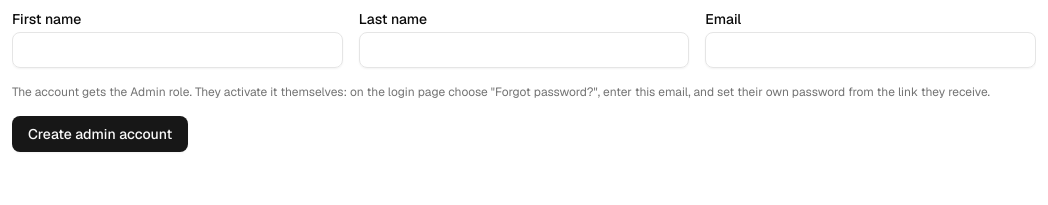
Test: CreateAdminForm › submits and shows the result
The width and height of the screenshot is (1048, 205).
Type "Asha" into the field labelled "First name" at coordinates (177, 50), box [12, 32, 343, 68]
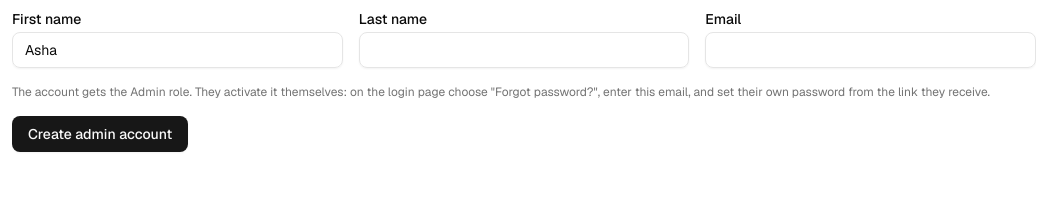
Type "Rao" into the field labelled "Last name" at coordinates (524, 50), box [359, 32, 689, 68]
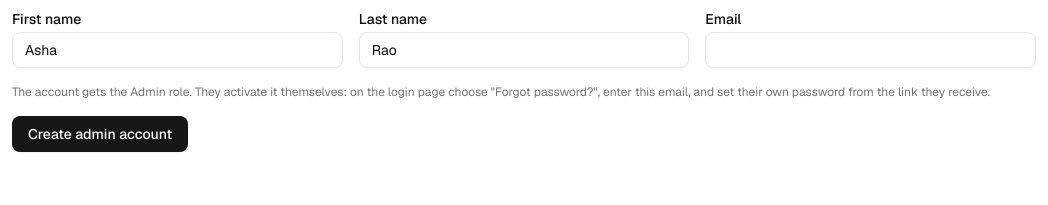
Type "asha@example.com" into the field labelled "Email" at coordinates (871, 50), box [705, 32, 1036, 68]
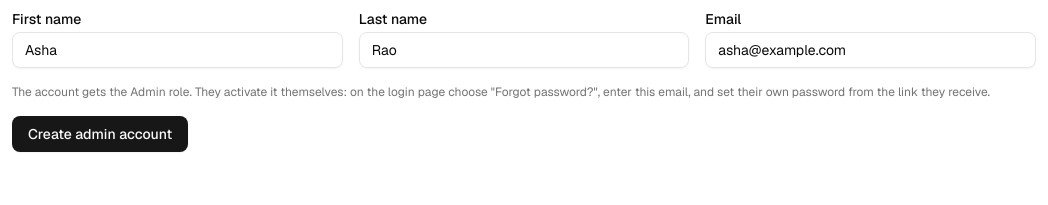
Click the button "Create admin account" at coordinates (100, 134), box [12, 116, 188, 152]
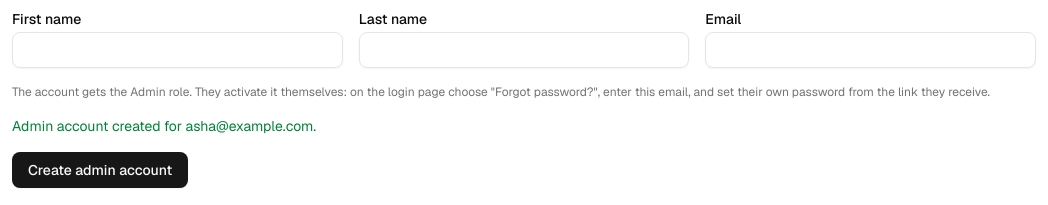
Expected: the message reads "Admin account created for asha@example.com.", [12, 117, 316, 135]
